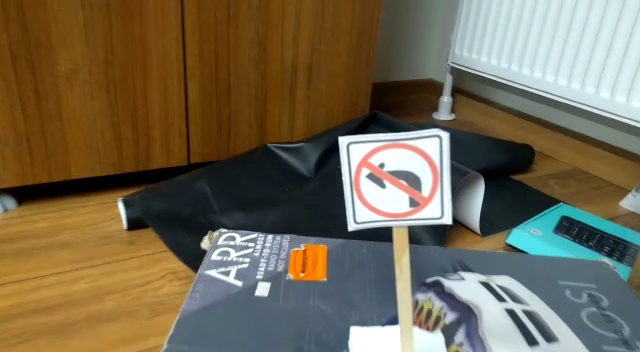sola_donulmez: (350, 136, 440, 228)
